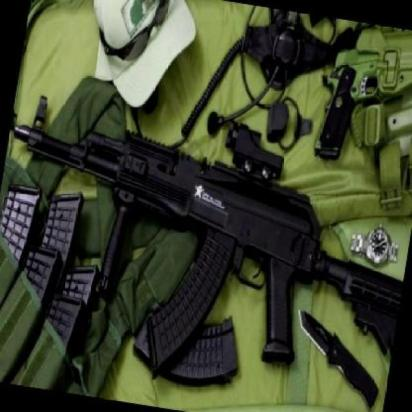Gun: (0, 87, 412, 412)
